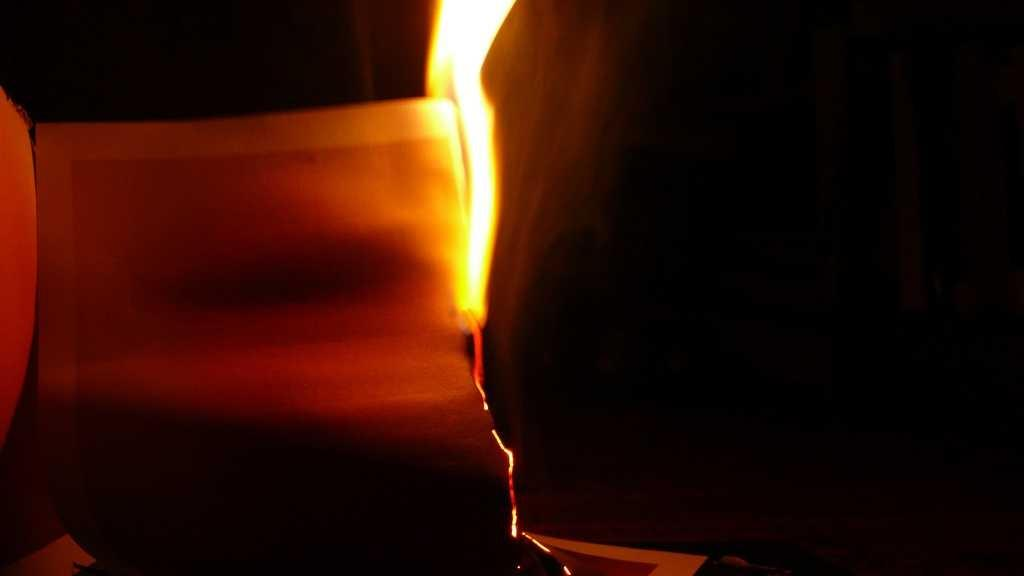fire: (423, 9, 518, 294)
